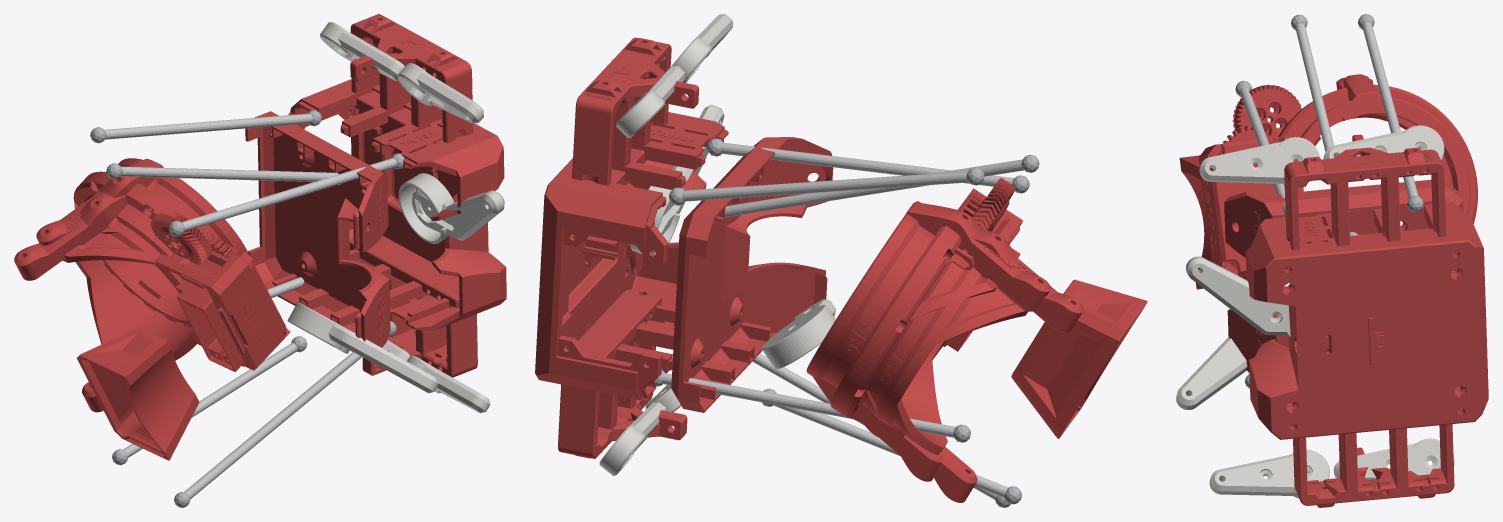
File: ORS6_final.glb
3 views of the same model, side by side, from view 1: azimuth 30°, elevation 25°; view 2: azimuth 150°, elevation 25°; view 3: azimuth 270°, elevation 25° (orthographic). The views are drawn at different scales.
Visible parts, largest first — view 1: p3, p13, p0, p14, p1, p2, p11, p9, p10, p33, p5, p24 (+8 smaller); view 2: p0, p3, p13, p11, p14, p1, p2, p12, p21, p10, p18, p24 (+9 smaller); view 3: p0, p1, p3, p2, p12, p11, p5, p8, p9, p10, p17, p6 (+9 smaller).
Boxes of the visible parts, <box> form: p3: <box>245,111,390,347</box>; p13: <box>14,178,281,412</box>; p0: <box>288,79,506,331</box>; p14: <box>76,327,199,460</box>; p1: <box>350,14,473,143</box>; p2: <box>349,235,477,377</box>; p11: <box>36,158,252,341</box>; p9: <box>398,173,504,243</box>; p10: <box>287,302,438,393</box>; p33: <box>184,352,361,498</box>; p5: <box>397,63,483,123</box>; p24: <box>121,166,338,181</box>; p0: <box>535,112,728,400</box>; p3: <box>671,137,833,412</box>; p13: <box>841,196,1083,502</box>; p11: <box>806,201,1050,481</box>; p14: <box>1011,279,1147,438</box>; p1: <box>572,37,699,185</box>; p2: <box>558,289,687,458</box>; p12: <box>830,188,984,412</box>; p21: <box>682,171,968,201</box>; p10: <box>762,299,835,369</box>; p18: <box>720,142,1014,186</box>; p24: <box>725,159,1023,217</box>; p0: <box>1245,202,1488,439</box>; p1: <box>1284,134,1454,267</box>; p3: <box>1224,180,1463,372</box>; p2: <box>1288,402,1461,507</box>; p12: <box>1206,84,1477,275</box>; p11: <box>1284,74,1470,213</box>; p5: <box>1199,137,1319,183</box>; p8: <box>1209,449,1330,498</box>; p9: <box>1186,256,1290,337</box>; p10: <box>1176,337,1247,409</box>; p17: <box>1232,84,1301,137</box>; p6: <box>1323,125,1444,175</box>.
Size of the model in its own units: 317 by 247 by 184.
